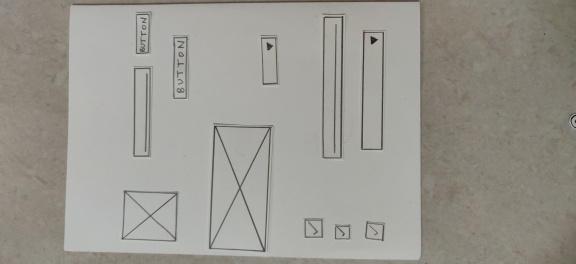button: (170, 34, 190, 101), (132, 11, 151, 55)
checkbox: (301, 216, 326, 240), (363, 219, 387, 242), (333, 222, 351, 242)
dropdown: (359, 28, 387, 152), (258, 34, 280, 86)
img: (207, 123, 270, 253), (119, 188, 180, 244)
text: (319, 13, 345, 160), (131, 65, 153, 159)
